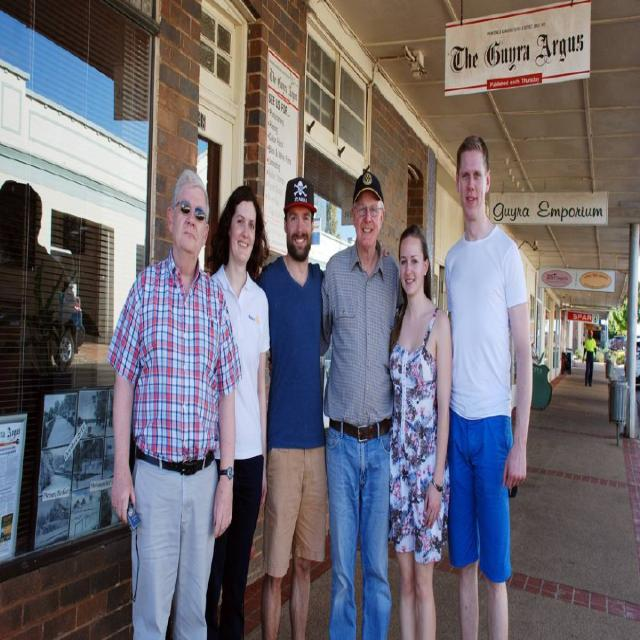body: (103, 160, 238, 639), (434, 127, 536, 639), (319, 169, 408, 640), (253, 175, 326, 636), (0, 174, 88, 544), (204, 183, 271, 639), (387, 222, 453, 639), (581, 327, 597, 389)
